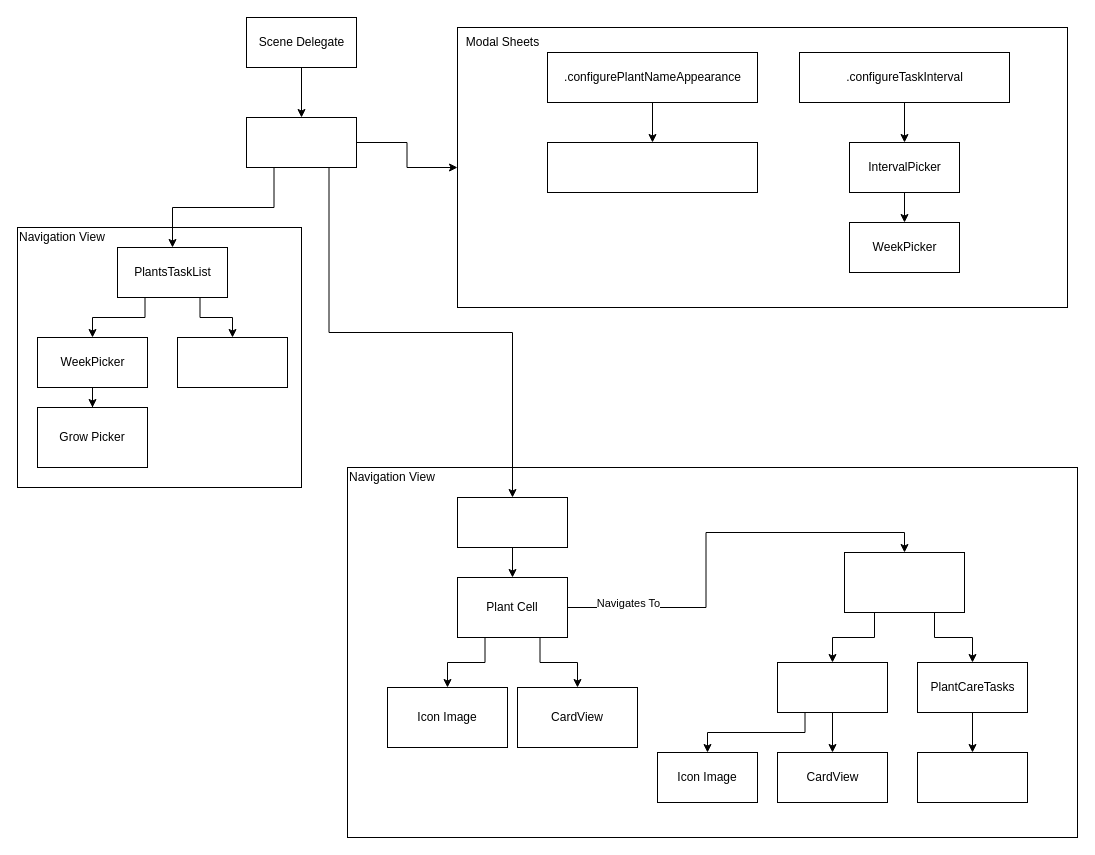
Some shapes in this 1095 by 855 pixel diagram are drawn without their labels. The shapes that lost their labels are listed below. From the top down, each one's centre as x and y in pixels, then its label:
At [301,142]: "Root View".
At [652,167]: "PlantNameAppearanceEditorView".
At [232,362]: "GrowTaskCard".
At [512,522]: "AllPlantsView".
At [904,582]: "PlantDetailView".
At [832,687]: "PlantHero".
At [972,777]: "CareTaskCardView".
